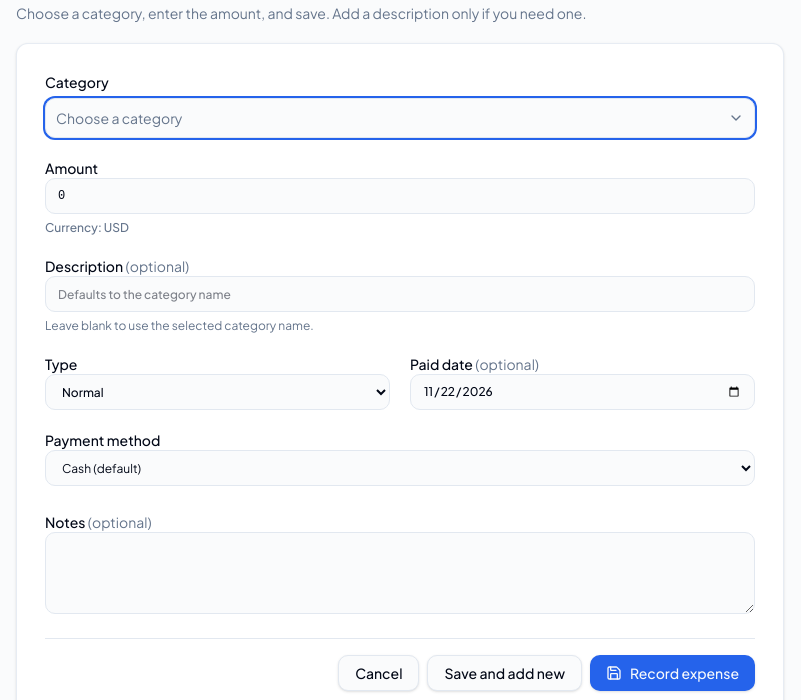
Test: expense UI › validates required fields when clicking Save and add new
(page scrolled)
Click the button "Save and add new" at [505, 673], box [428, 655, 582, 691]
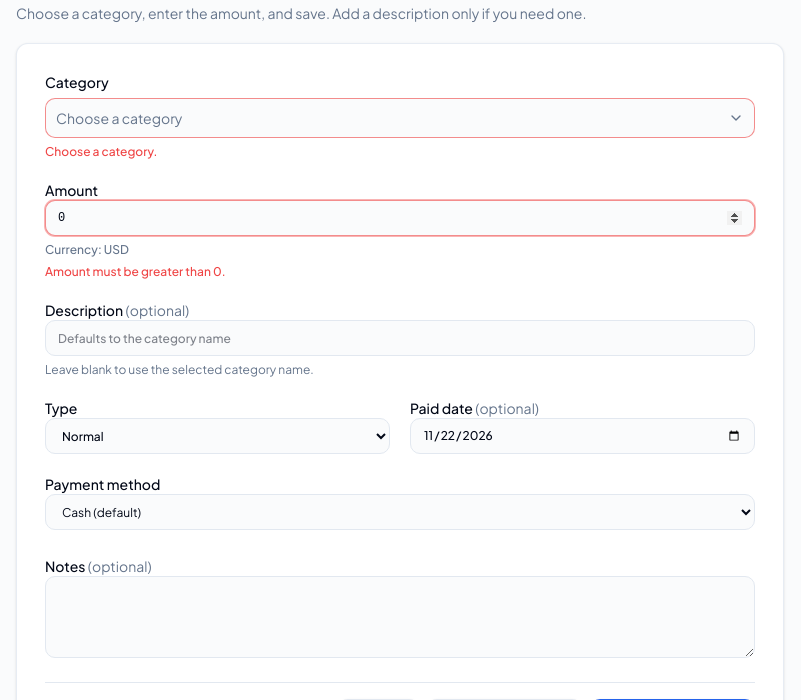
Check: the text "Choose a category." is shown, box [45, 144, 157, 159]
Check: the text "Amount must be greater than 0." is shown, box [45, 264, 226, 279]
